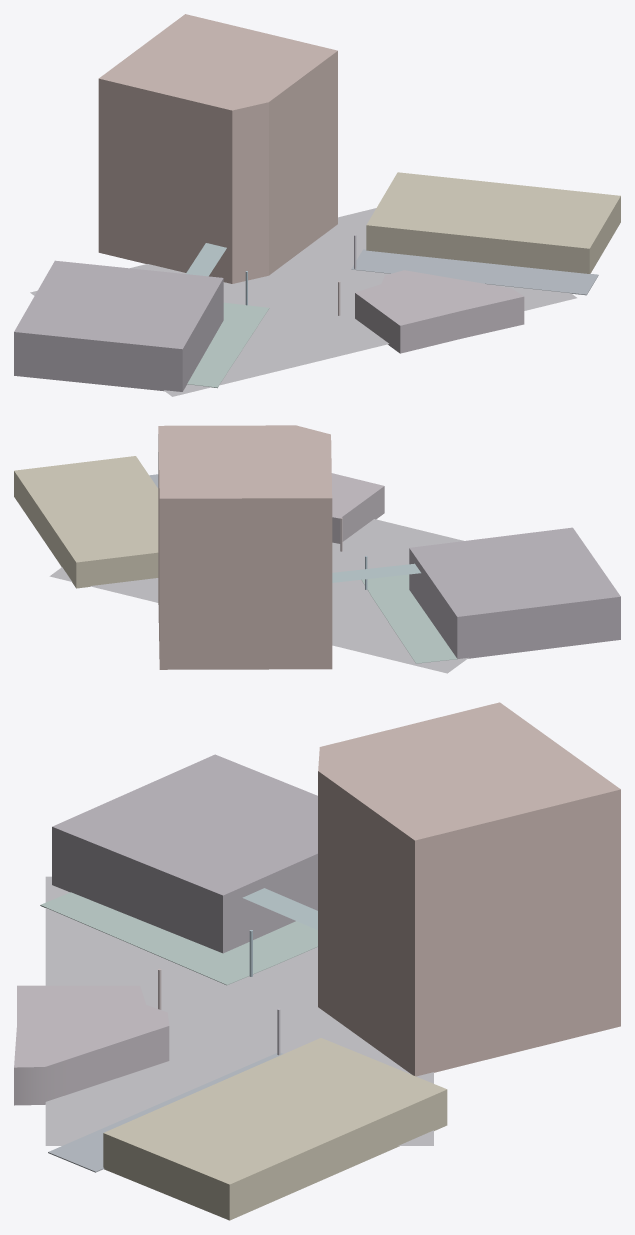
Rendered from eislato_MAP_1.fbx.
3 renders of one model, top to bottom at view 1: azimuth 30°, elevation 25°; view 2: azimuth 150°, elevation 25°; view 3: azimuth 270°, elevation 25°, orthographic. The views are drawn at different scales.
Visible parts, largest first — view 1: main, built1, built3, floor, built2, hodou2, hodou1, Br; view 2: main, built1, built3, floor, hodou1, built2, Br; view 3: main, built1, built3, floor, built2, hodou1, hodou2, Br.
Part boxes in pixels (x1=…): main: x1=98, y1=14, x2=337, y2=283; built1: x1=14, y1=260, x2=223, y2=391; built3: x1=366, y1=172, x2=620, y2=273; floor: x1=30, y1=208, x2=576, y2=396; built2: x1=355, y1=270, x2=524, y2=353; hodou2: x1=351, y1=249, x2=598, y2=295; hodou1: x1=187, y1=302, x2=269, y2=388; Br: x1=186, y1=243, x2=226, y2=276; main: x1=158, y1=425, x2=332, y2=669; built1: x1=409, y1=527, x2=620, y2=658; built3: x1=14, y1=456, x2=158, y2=588; floor: x1=49, y1=519, x2=468, y2=673; hodou1: x1=361, y1=574, x2=457, y2=663; built2: x1=331, y1=473, x2=384, y2=543; Br: x1=332, y1=563, x2=420, y2=582; main: x1=318, y1=702, x2=620, y2=1076; built1: x1=52, y1=754, x2=317, y2=953; built3: x1=103, y1=1038, x2=447, y2=1220; floor: x1=45, y1=876, x2=433, y2=1145; built2: x1=14, y1=985, x2=169, y2=1105; hodou1: x1=40, y1=892, x2=317, y2=985; hodou2: x1=48, y1=1052, x2=283, y2=1172; Br: x1=242, y1=888, x2=317, y2=929.
Size of the model in its own units: 206 by 56.43 by 130.
